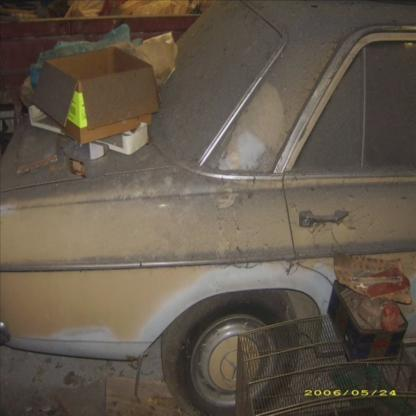Car: (1, 39, 414, 416)
